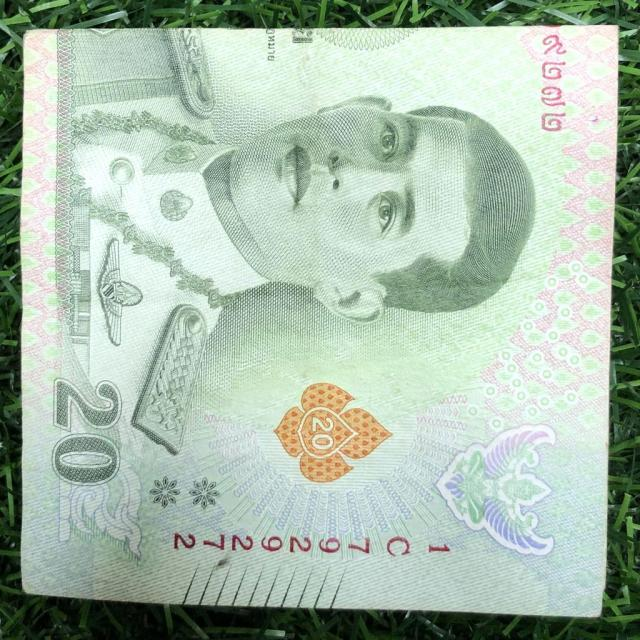THAI20: (18, 24, 620, 628)
